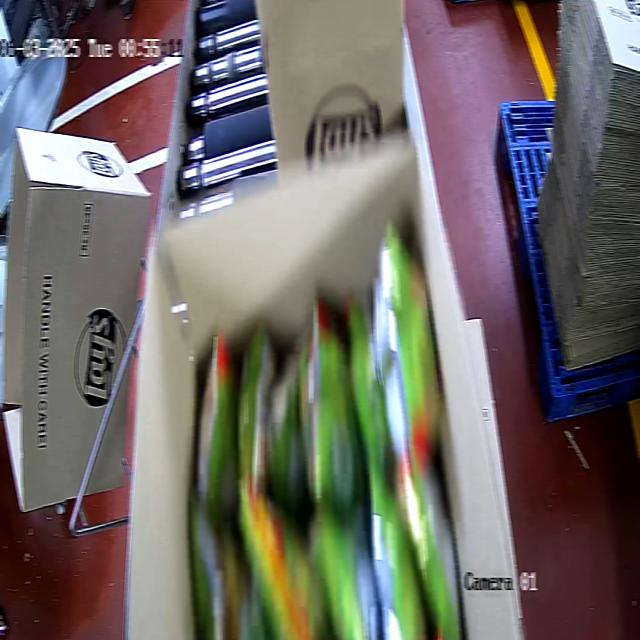YOGURT_HERB: (191, 250, 442, 637)
